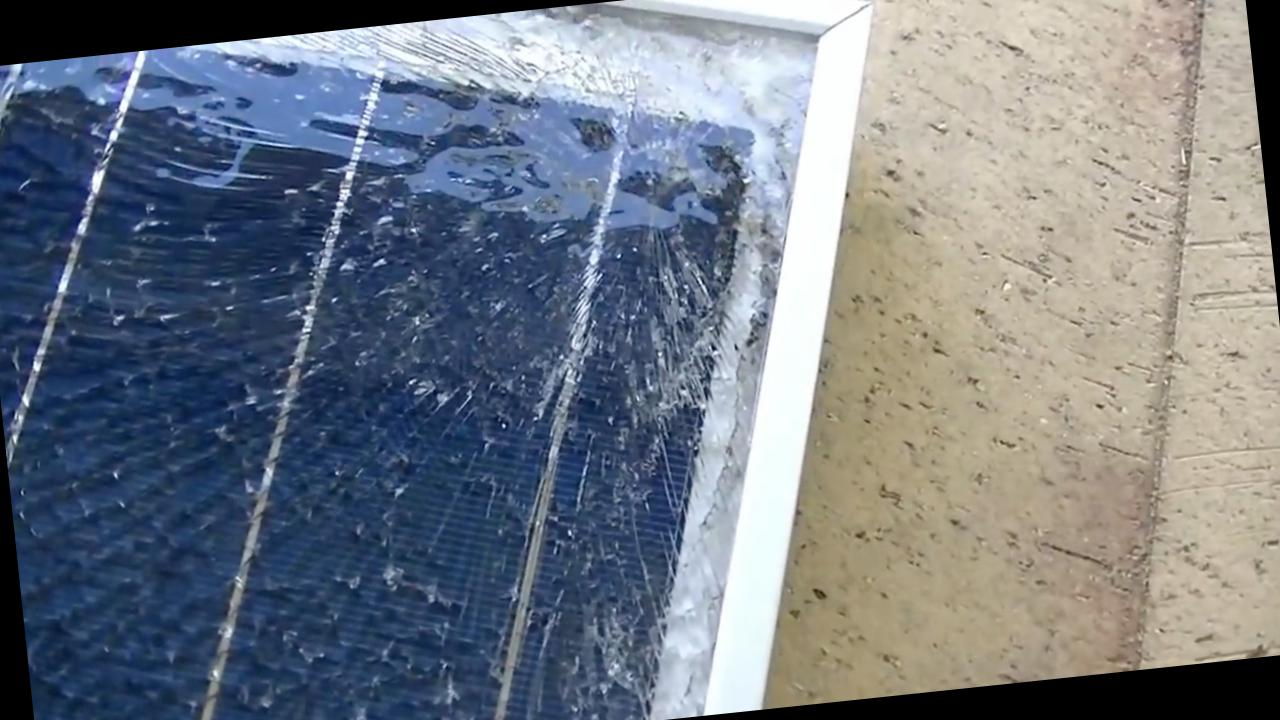Crack: (0, 0, 750, 548), (16, 481, 705, 719)
